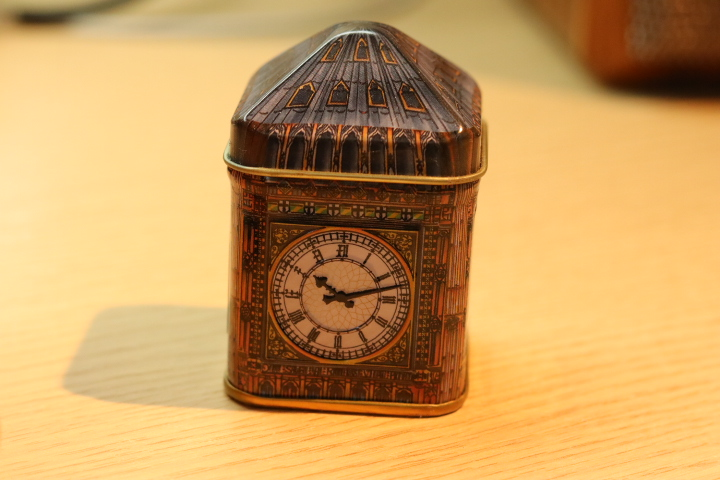Big Ben: (204, 12, 495, 432)
